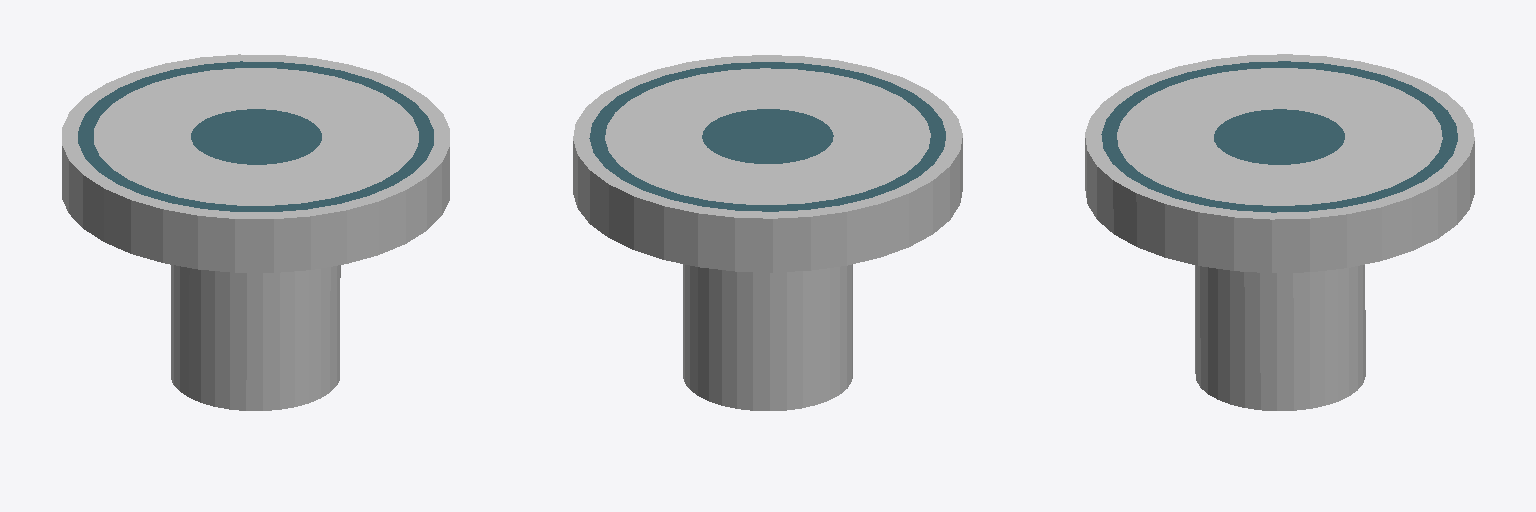
Rendered from circle_bumper.obj.
3 renders of one model, left to right at view 1: azimuth 30°, elevation 25°; view 2: azimuth 150°, elevation 25°; view 3: azimuth 270°, elevation 25°, orthographic.
Size of the model in its own units: 4.58 by 3.1 by 4.58.